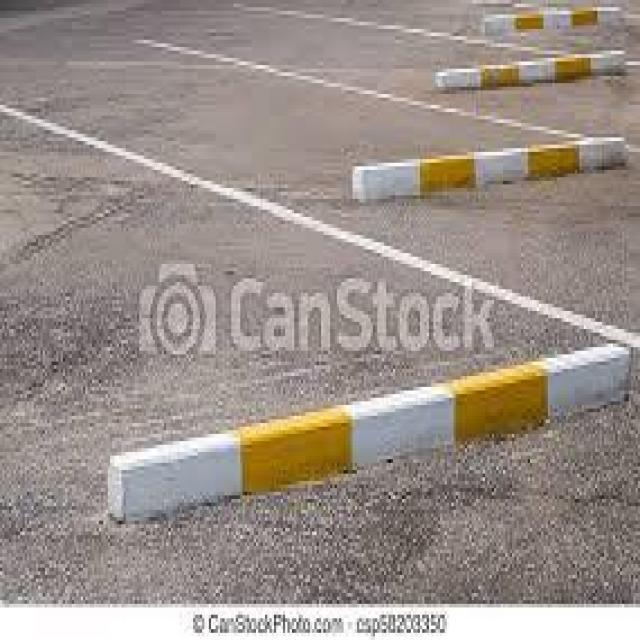curb: (108, 343, 626, 524), (353, 139, 632, 202), (455, 53, 632, 92), (491, 1, 635, 34)
